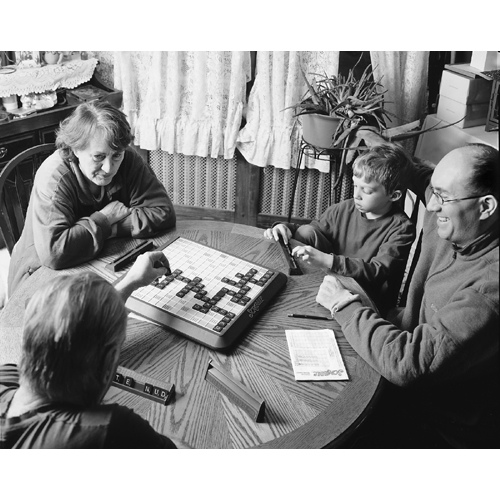without_mask: (425, 153, 500, 243), (70, 118, 126, 185), (350, 163, 402, 214)
